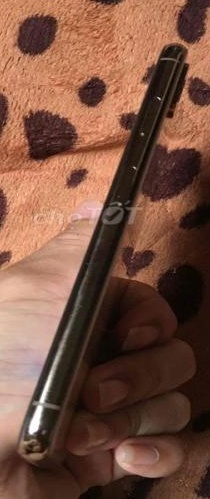scratch: (53, 331, 81, 369), (92, 239, 111, 289), (73, 285, 95, 319), (38, 427, 51, 443)
